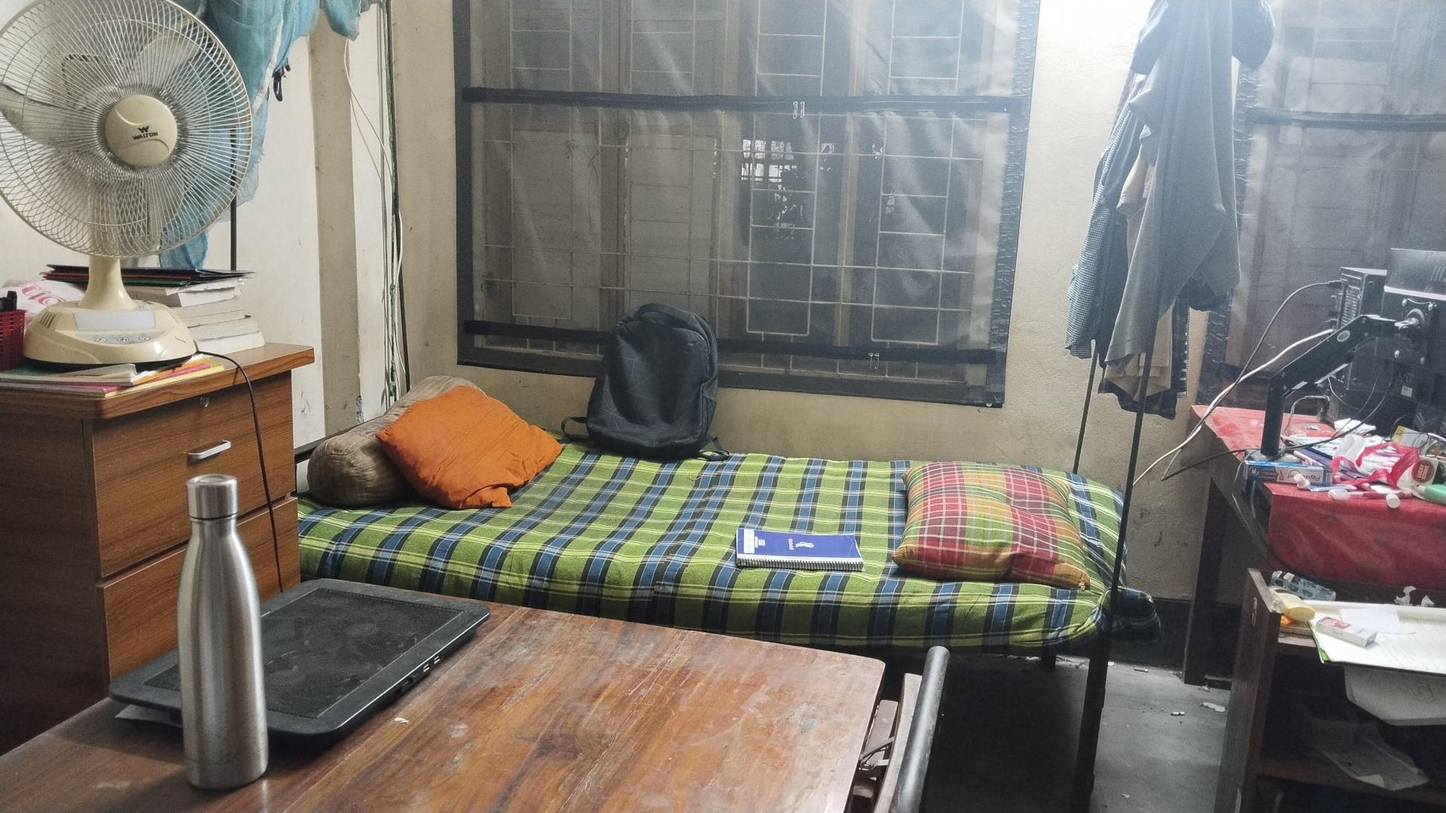Bag: (579, 307, 725, 449)
Bottle: (173, 477, 266, 784)
Fan: (3, 1, 253, 359)
Notebook: (736, 527, 864, 578)
Pillow: (902, 456, 1087, 586), (385, 378, 558, 499)
Window: (852, 0, 989, 378), (472, 2, 610, 350), (738, 2, 846, 378), (616, 5, 726, 357)
